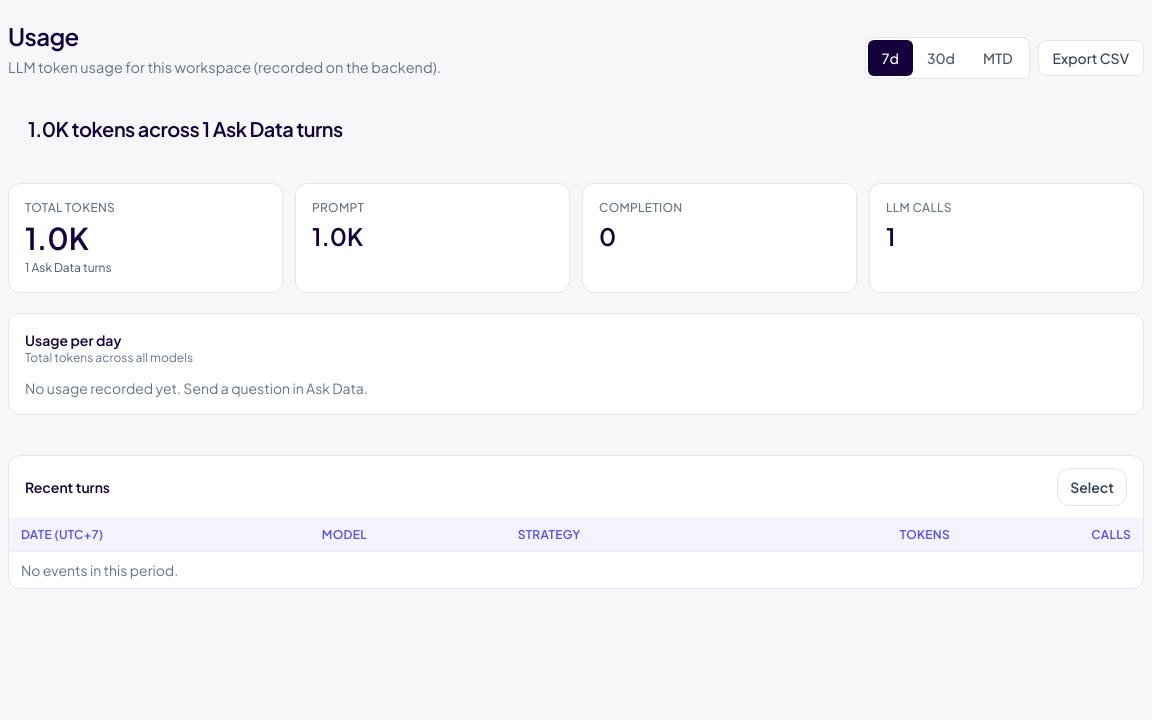
it: Usage page › does not let a slow earlier answer overwrite the period chosen last
The image size is (1152, 720).
Expected: the text "1.0K tokens across 1 Ask Data turns" is shown, [28, 116, 343, 141]
Click the button "30d" at (941, 58), box [913, 40, 969, 76]
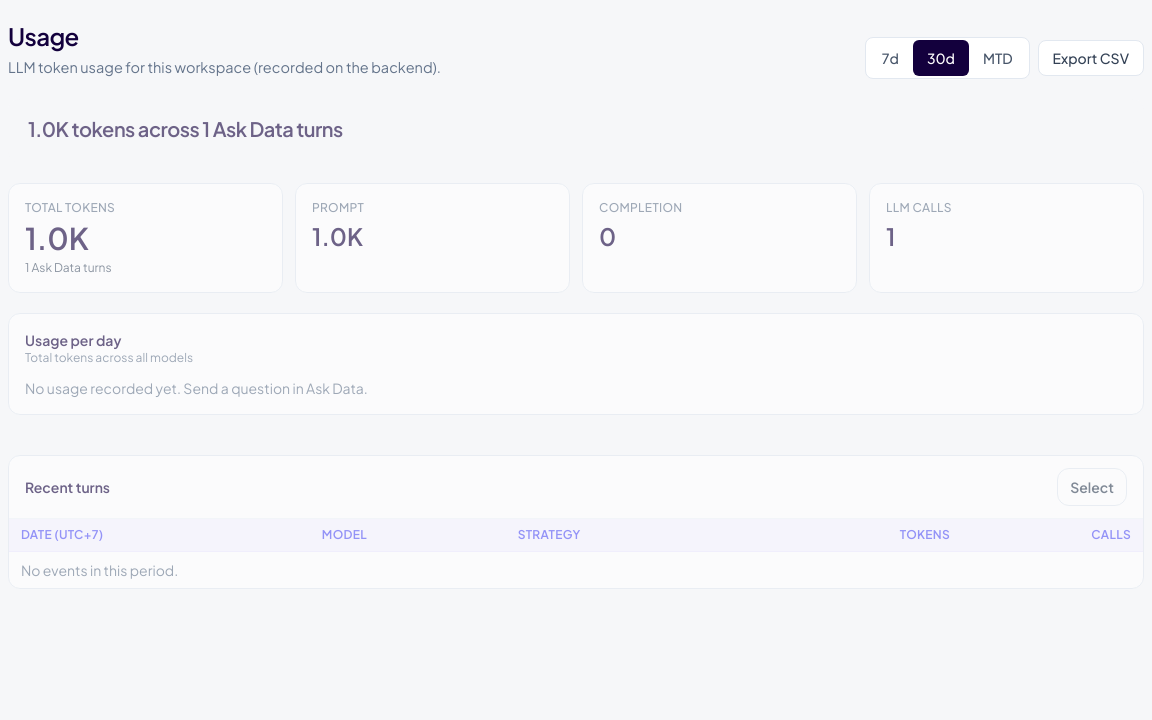
Click the button "MTD" at (998, 58), box [969, 40, 1027, 76]
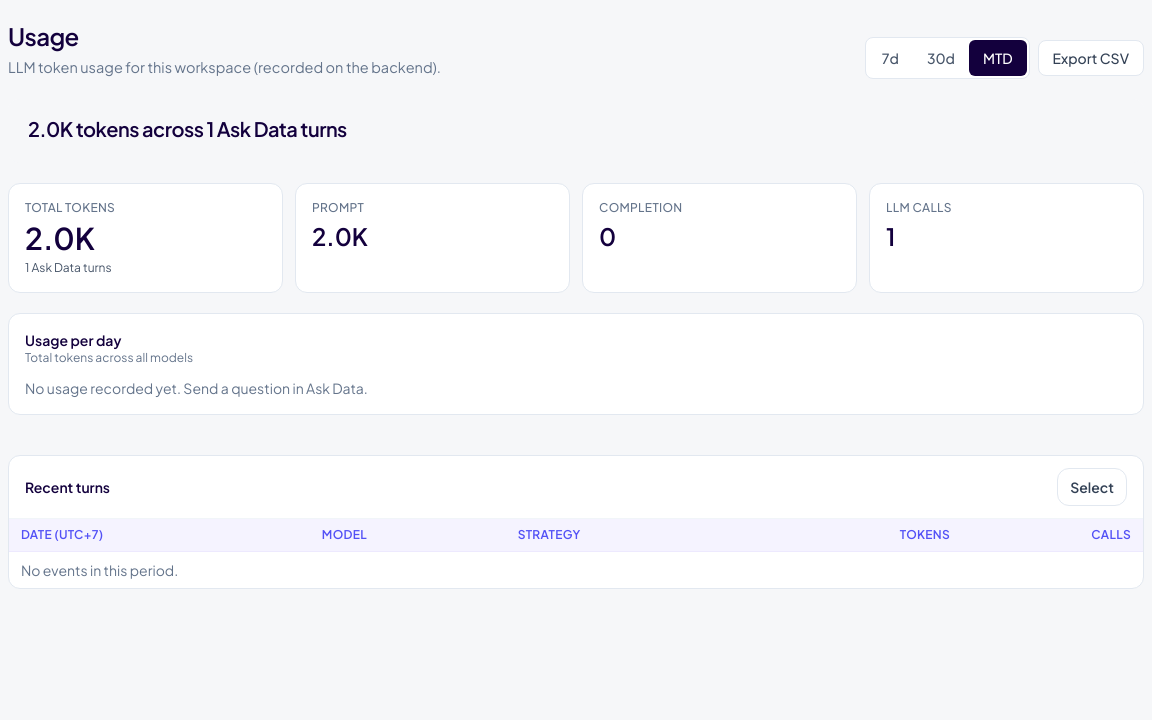
Expected: the text "2.0K tokens across 1 Ask Data turns" is shown, [28, 116, 347, 141]
